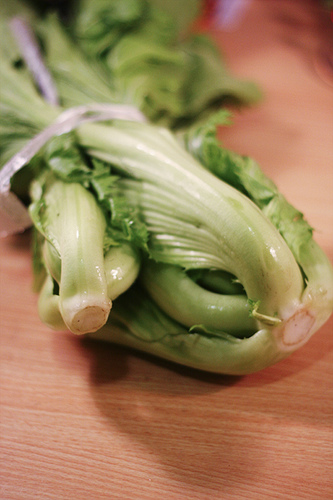cabbage: (1, 1, 331, 382)
